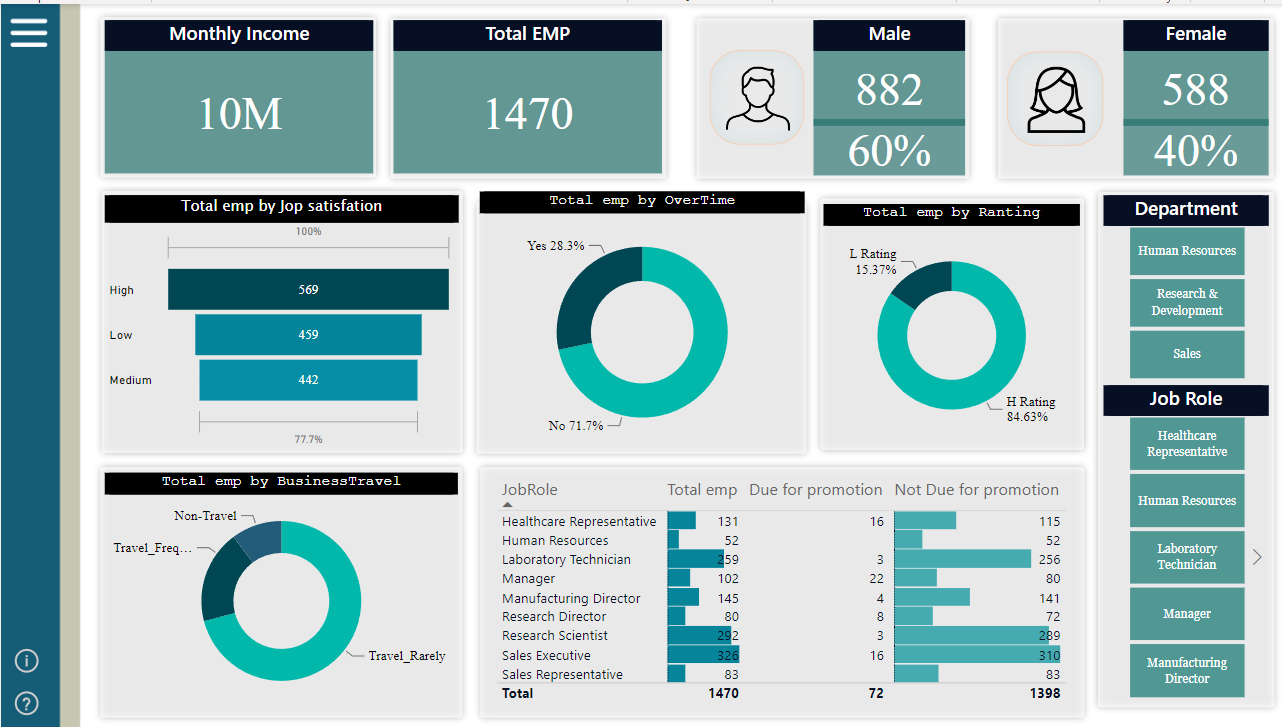

The dashboard page shown, as its layout file describes it:
{"tool":"powerbi","page":{"name":"Action ","canvas":[1280,720],"ordinal":1},"visuals":[{"type":"shape","box":[92.3,5.8,287.6,173],"z":0},{"type":"actionButton","title":"Qs","box":[8.3,672.6,33.6,42.8],"z":0,"group":"g1"},{"type":"shape","box":[379.7,6.9,287.2,172.6],"z":1000},{"type":"actionButton","title":"Info","box":[8.3,629.8,33.6,42.8],"z":1000,"group":"g1"},{"type":"actionButton","title":"Menu Button","box":[3.7,3.7,47.7,50.1],"z":2000,"group":"g1"},{"type":"shape","box":[683.8,7,284.1,173],"z":2000},{"type":"shape","box":[981.7,6.9,287.2,172.6],"z":3000},{"type":"shape","box":[1081.6,179.8,188.5,524.7],"z":4000},{"type":"card","title":"Total EMP ","fields":{"Values":["Measureas.Total emp"]},"box":[389.4,16.6,266.5,151.9],"z":5000},{"type":"card","title":"Male","fields":{"Values":["Measureas.Male"]},"box":[806.4,16.6,150.5,104.9],"z":6000},{"type":"card","title":"Female","fields":{"Values":["Measureas.Female"]},"box":[1114.3,16.6,143.6,104.9],"z":7000},{"type":"card","title":"Male","fields":{"Values":["Measureas.% Female"]},"box":[1114,113.9,144,55.8],"z":8000},{"type":"card","title":"Male","fields":{"Values":["Measureas.% Male"]},"box":[806,113.9,150.7,55.8],"z":9000},{"type":"slicer","title":"Department","fields":{"Values":["HR Analytics Data.Department"]},"box":[1094,189.8,163.7,188.5],"z":10000},{"type":"image","box":[998.3,46.9,95.3,93.9],"z":11000},{"type":"image","box":[702.8,45.6,93.9,93.9],"z":12000},{"type":"card","title":"Monthly Income","fields":{"Values":["Sum(HR Analytics Data.MonthlyIncome)"]},"box":[102.9,16.4,266.5,152],"z":13000},{"type":"slicer","title":"Job Role","fields":{"Values":["HR Analytics Data.JobRole"]},"box":[1094,378.3,163.7,316.3],"z":14000},{"type":"shape","box":[465.1,189.8,341.1,262.9],"z":17000},{"type":"shape","box":[92.7,178.6,371.7,273.5],"z":18000},{"type":"funnel","fields":{"Category":["HR Analytics Data.Jop satisfation"],"Y":["Measureas.Total emp"]},"box":[102.9,189.8,351,254.3],"z":19000},{"type":"donutChart","fields":{"Y":["Measureas.Total emp"],"Category":["HR Analytics Data.OverTime"]},"box":[475,186,322.5,262.9],"z":20000},{"type":"shape","box":[91.5,453.2,372.8,262.3],"z":21000},{"type":"donutChart","fields":{"Y":["Measureas.Total emp"],"Category":["HR Analytics Data.BusinessTravel"]},"box":[102.7,465.5,350.5,237.8],"z":22000},{"type":"shape","box":[468.8,453.2,612.8,262.3],"z":23000},{"type":"tableEx","fields":{"Values":["HR Analytics Data.JobRole","Measureas.Total emp","Measureas.Due for promotion","Measureas.Not Due for promotion"]},"box":[486.2,465.1,584.2,239.4],"z":24000},{"type":"shape","box":[806.2,186,275.3,262.9],"z":25000},{"type":"donutChart","fields":{"Y":["Measureas.Total emp"],"Category":["HR Analytics Data.Ranting"]},"box":[816.1,198.4,254.3,244.3],"z":26000},{"type":"group","id":"g1","title":"Menu Bar","box":[3.7,3.7,47.1,711.9],"z":26250}]}

Visuals, with their boxes in screenshot pixels (x1, y1, x2, y2), scaled from the page's 1280x720 canvas onto the 1282x727 screenshot:
shape: box=[92, 6, 380, 181]
"Qs" actionButton: box=[8, 679, 42, 722]
shape: box=[380, 7, 668, 181]
"Info" actionButton: box=[8, 636, 42, 679]
"Menu Button" actionButton: box=[4, 4, 51, 54]
shape: box=[685, 7, 969, 182]
shape: box=[983, 7, 1271, 181]
shape: box=[1083, 182, 1272, 711]
"Total EMP " card: box=[390, 17, 657, 170]
"Male" card: box=[808, 17, 958, 123]
"Female" card: box=[1116, 17, 1260, 123]
"Male" card: box=[1116, 115, 1260, 171]
"Male" card: box=[807, 115, 958, 171]
"Department" slicer: box=[1096, 192, 1260, 382]
image: box=[1000, 47, 1095, 142]
image: box=[704, 46, 798, 141]
"Monthly Income" card: box=[103, 17, 370, 170]
"Job Role" slicer: box=[1096, 382, 1260, 701]
shape: box=[466, 192, 807, 457]
shape: box=[93, 180, 465, 456]
funnel - HR Analytics Data.Jop satisfation x Measureas.Total emp: box=[103, 192, 455, 448]
donutChart - Measureas.Total emp x HR Analytics Data.OverTime: box=[476, 188, 799, 453]
shape: box=[92, 458, 465, 722]
donutChart - Measureas.Total emp x HR Analytics Data.BusinessTravel: box=[103, 470, 454, 710]
shape: box=[470, 458, 1083, 722]
tableEx - HR Analytics Data.JobRole x Measureas.Total emp: box=[487, 470, 1072, 711]
shape: box=[807, 188, 1083, 453]
donutChart - Measureas.Total emp x HR Analytics Data.Ranting: box=[817, 200, 1072, 447]
"Menu Bar" group: box=[4, 4, 51, 723]
